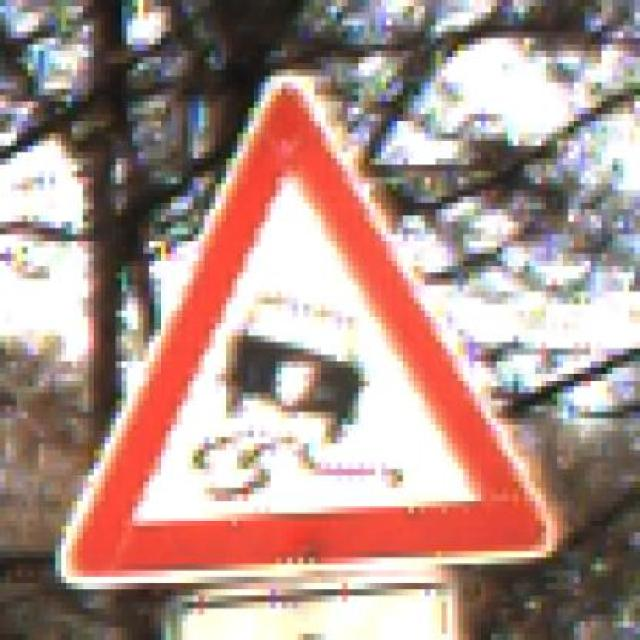Slippery Road Ahead: (43, 57, 574, 595)
